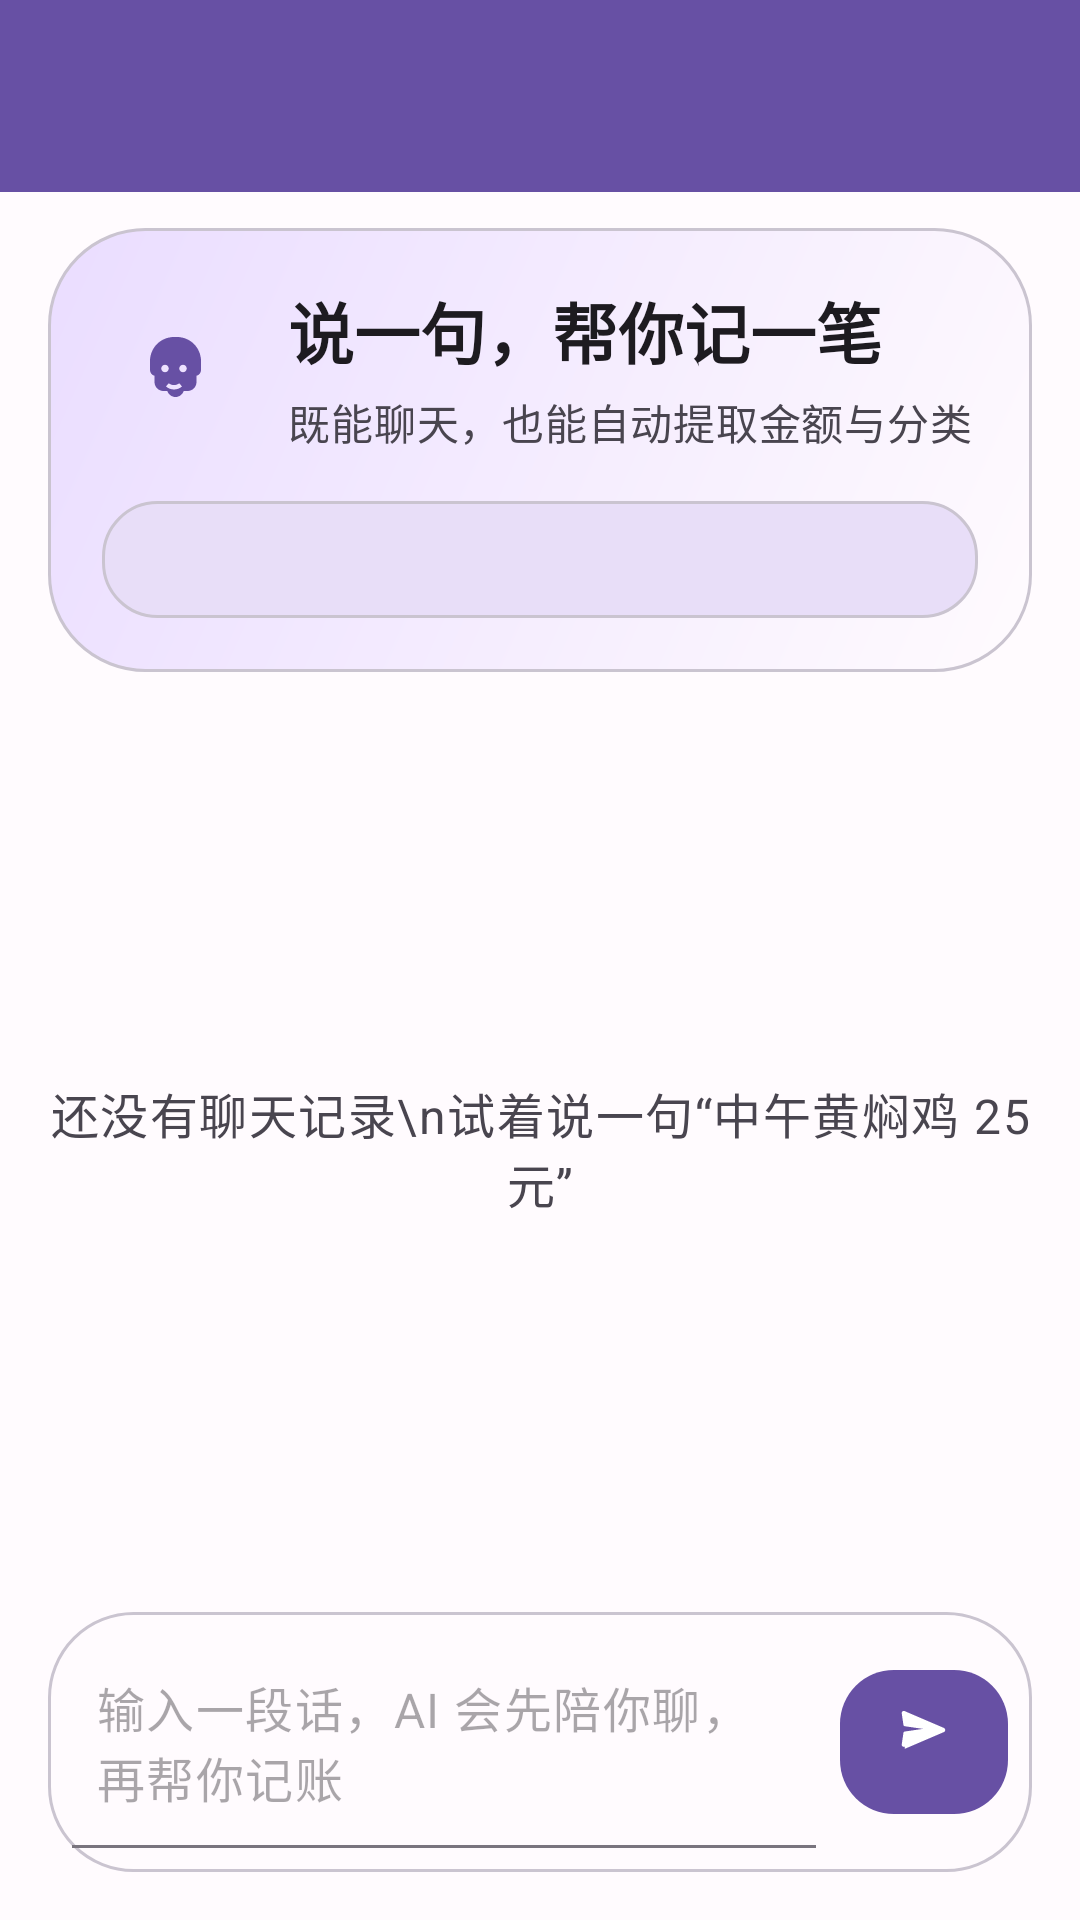

Named icons in this screenshot (1080x1920) and their bounding boxes, (x1=x1, y1=y1, x2=x2, y2=y2):
AI 伴侣图标: (x1=150, y1=337, x2=201, y2=397)
发送: (x1=840, y1=1670, x2=1008, y2=1814)
